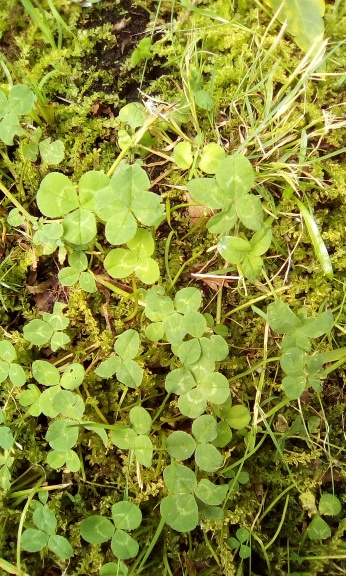4leaf: (185, 154, 264, 233), (93, 164, 165, 245), (165, 356, 230, 419)
